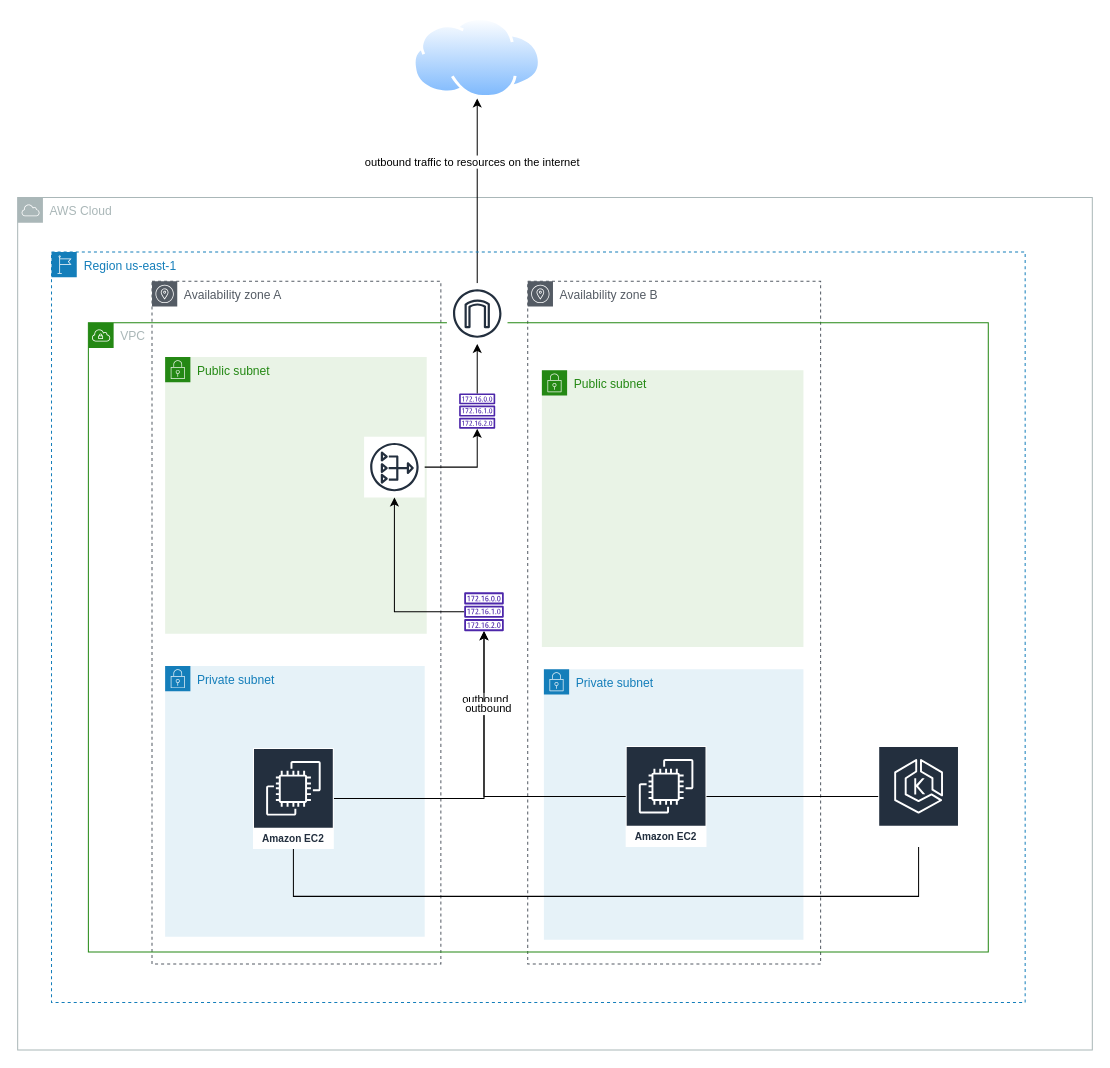
The diagram is 1110 pixels wide and 1068 high, and some of its shapes have lost their labels. Here are the shapes that lost their labels. From the top down, the centre of each, then its label:
pixel 477 313: Internet gateway
pixel 394 466: NAT gateway
pixel 918 796: Amazon EKS
